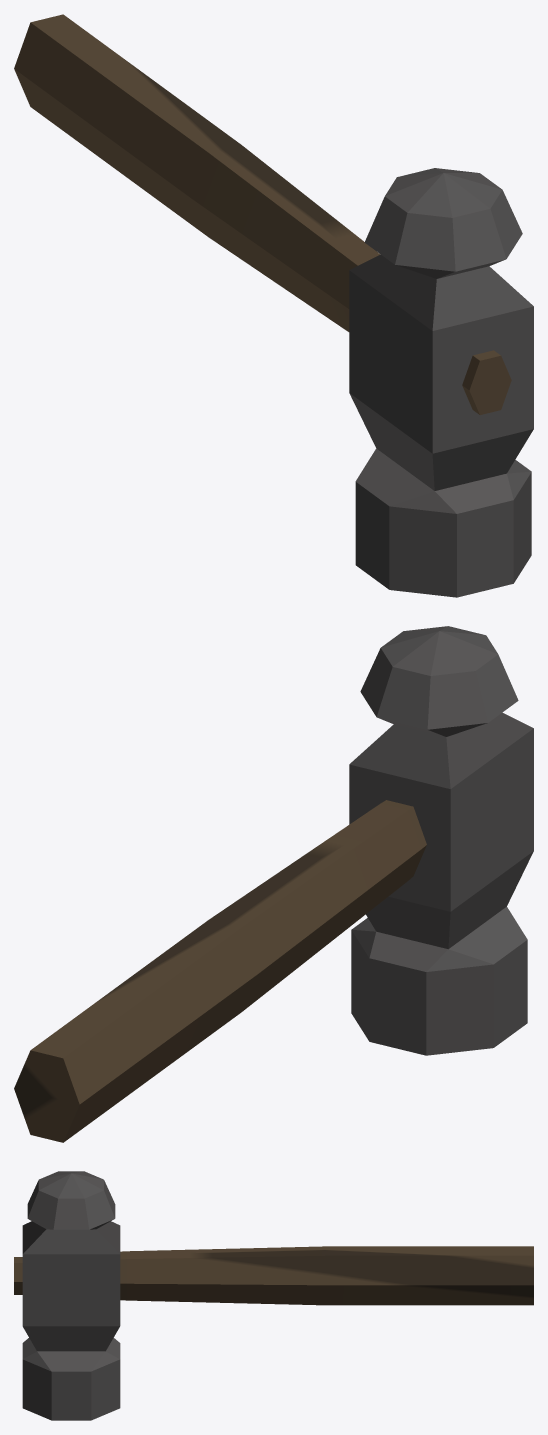
File: SM_Tool_Hammer_Mallet.fbx
3 renders of one model, top to bottom at view 1: azimuth 30°, elevation 25°; view 2: azimuth 150°, elevation 25°; view 3: azimuth 270°, elevation 25°, orthographic. The views are drawn at different scales.
Parts seen in each view (by area): view 1: SM_Tool_Hammer_Mallet; view 2: SM_Tool_Hammer_Mallet; view 3: SM_Tool_Hammer_Mallet.
Boxes of the visible parts, left/top/right/bottom form: SM_Tool_Hammer_Mallet: left=14, top=14, right=533, bottom=597; SM_Tool_Hammer_Mallet: left=14, top=626, right=533, bottom=1142; SM_Tool_Hammer_Mallet: left=14, top=1171, right=533, bottom=1420.
Size of the model in its own units: 8.86 by 23.02 by 47.82.
